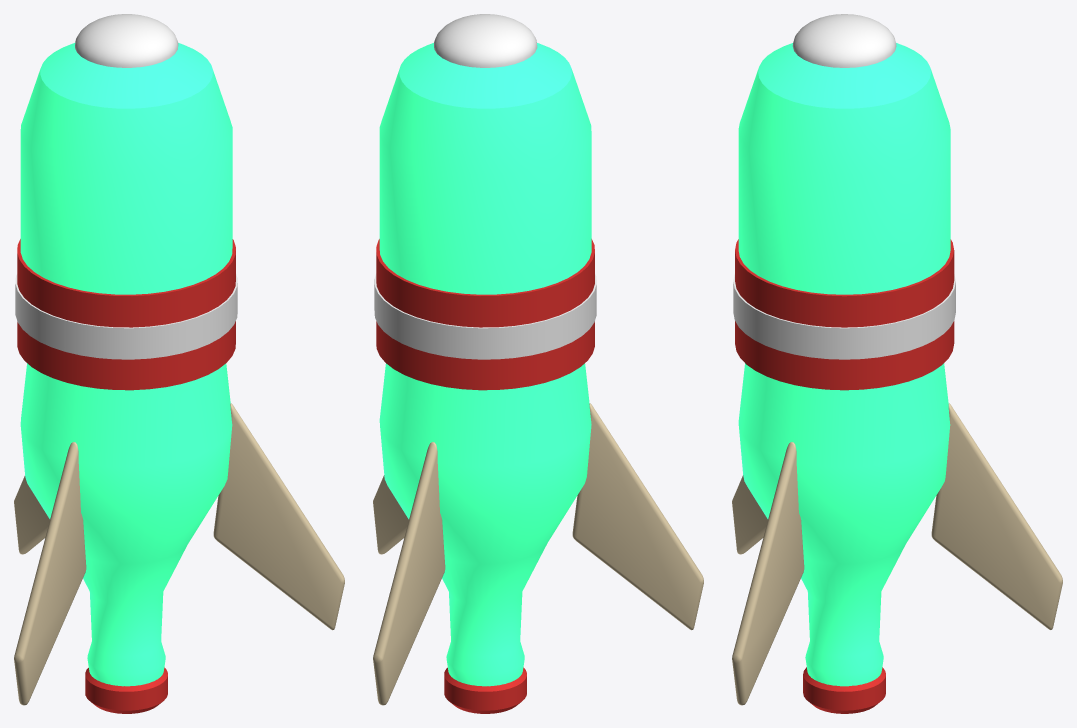
Rendered from Rocket_02_SodaBottle.fbx.
3 views of the same model, side by side, from view 1: azimuth 30°, elevation 25°; view 2: azimuth 150°, elevation 25°; view 3: azimuth 270°, elevation 25° (orthographic).
Visible parts, largest first — view 1: R02_Body, R02_Label, R02_CardFin_3, R02_CardFin_2, R02_LabelStripe, R02_Fizz, R02_Cap, R02_CardFin; view 2: R02_Body, R02_Label, R02_CardFin_2, R02_CardFin, R02_LabelStripe, R02_Fizz, R02_Cap, R02_CardFin_3; view 3: R02_Body, R02_Label, R02_CardFin, R02_CardFin_3, R02_LabelStripe, R02_Fizz, R02_Cap, R02_CardFin_2.
Boxes of the visible parts, <box> form: R02_Body: <box>20,43,232,686</box>; R02_Label: <box>17,239,235,390</box>; R02_CardFin_3: <box>213,403,344,630</box>; R02_CardFin_2: <box>14,442,86,705</box>; R02_LabelStripe: <box>15,274,237,359</box>; R02_Fizz: <box>75,14,178,67</box>; R02_Cap: <box>85,667,167,713</box>; R02_CardFin: <box>14,476,49,554</box>; R02_Body: <box>379,43,591,686</box>; R02_Label: <box>376,239,594,390</box>; R02_CardFin_2: <box>572,403,703,630</box>; R02_CardFin: <box>373,442,445,705</box>; R02_LabelStripe: <box>374,273,596,359</box>; R02_Fizz: <box>434,14,537,67</box>; R02_Cap: <box>444,667,526,713</box>; R02_CardFin_3: <box>373,475,408,554</box>; R02_Body: <box>738,43,950,686</box>; R02_Label: <box>735,239,954,390</box>; R02_CardFin: <box>931,403,1062,629</box>; R02_CardFin_3: <box>732,442,804,705</box>; R02_LabelStripe: <box>733,274,955,359</box>; R02_Fizz: <box>792,14,896,67</box>; R02_Cap: <box>803,667,885,713</box>; R02_CardFin_2: <box>732,475,767,554</box>.
Bounding box in the file's own units: 3.3 × 6.47 × 2.87.
